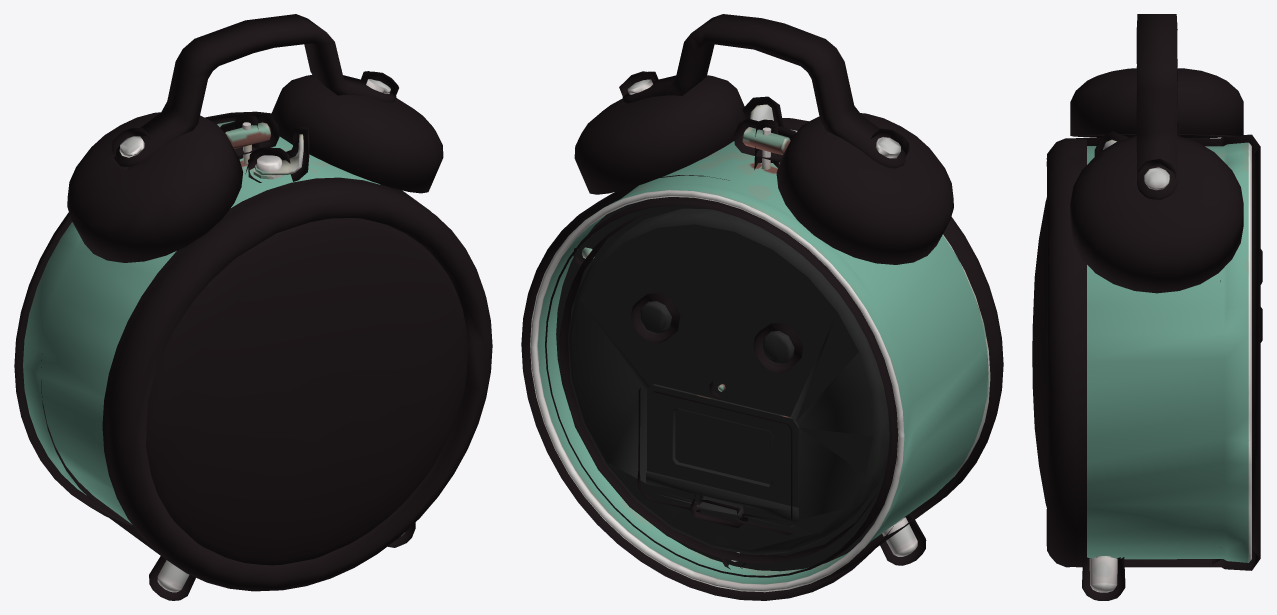
The model's file is SM_Int_AlarmClock.fbx.
3 views of the same model, side by side, from view 1: azimuth 30°, elevation 25°; view 2: azimuth 150°, elevation 25°; view 3: azimuth 270°, elevation 25° (orthographic). The views are drawn at different scales.
Visible parts, largest first — view 1: SM_Int_AlarmClock; view 2: SM_Int_AlarmClock; view 3: SM_Int_AlarmClock.
Part boxes in pixels (left/top/right/bottom): SM_Int_AlarmClock: left=14, top=14, right=492, bottom=600; SM_Int_AlarmClock: left=521, top=14, right=1003, bottom=600; SM_Int_AlarmClock: left=1032, top=14, right=1262, bottom=600.
Size of the model in its own units: 0.1366 by 0.1787 by 0.072.
